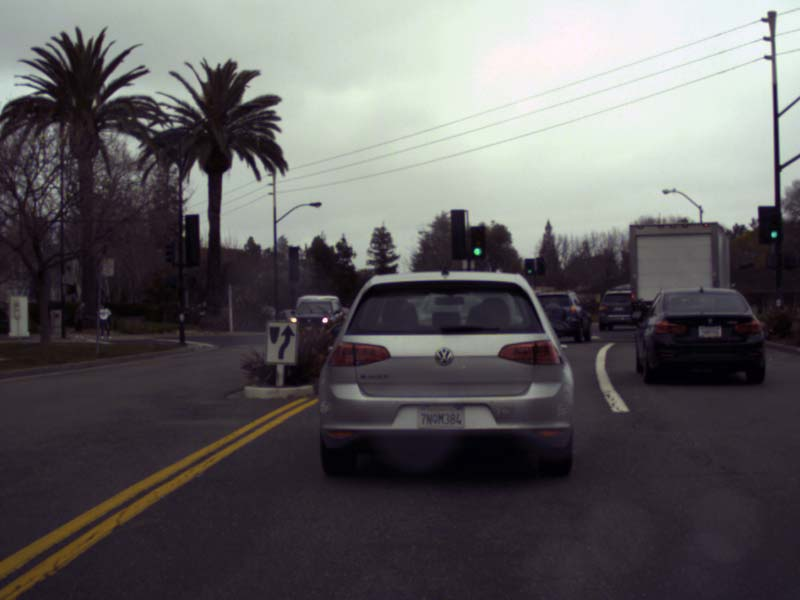Green: (470, 226, 485, 258), (769, 214, 782, 241), (524, 259, 535, 275)
Red: (535, 257, 544, 274)
